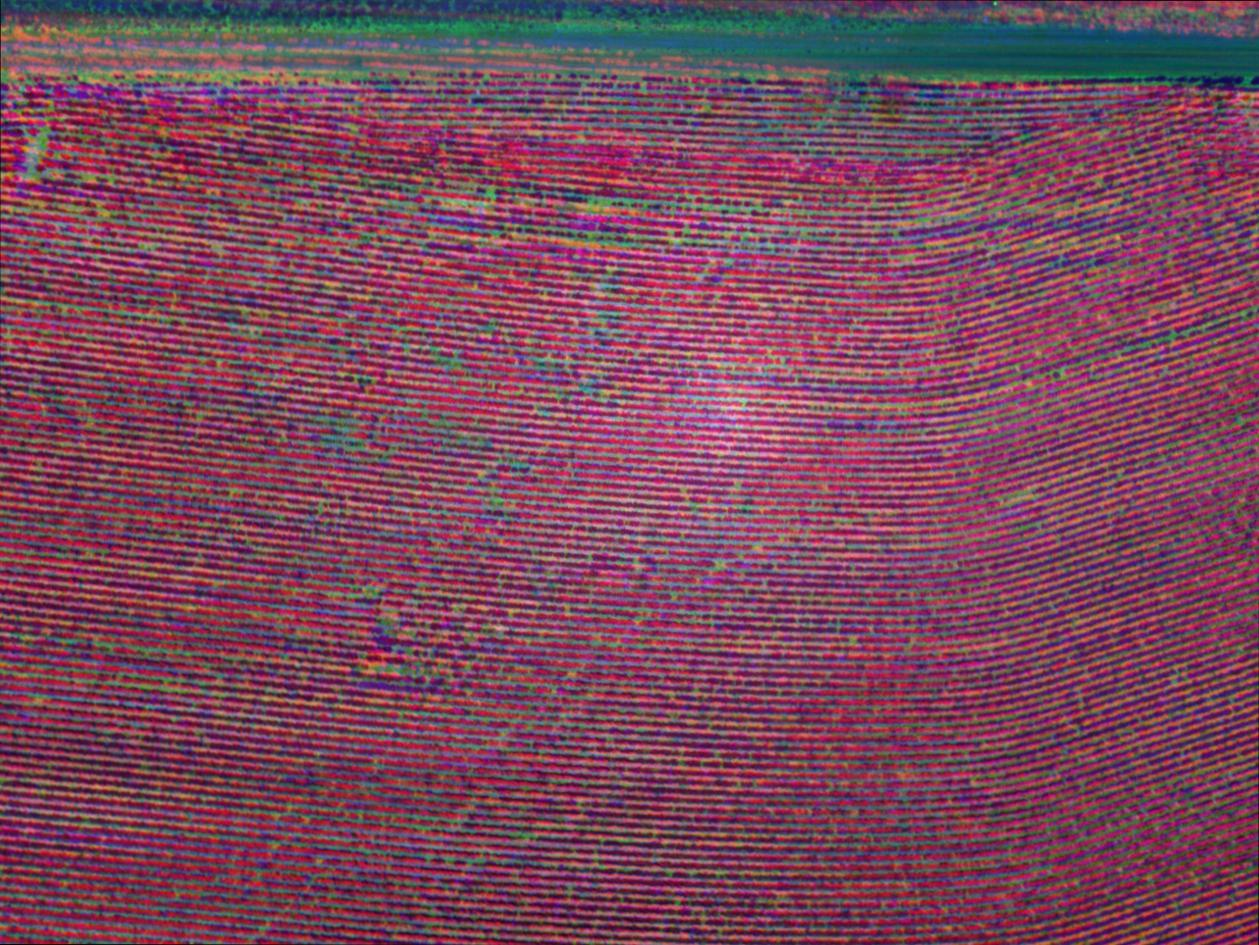dc: (359, 593, 513, 714), (330, 387, 455, 491), (594, 169, 748, 247), (409, 164, 535, 239), (0, 94, 85, 188)
